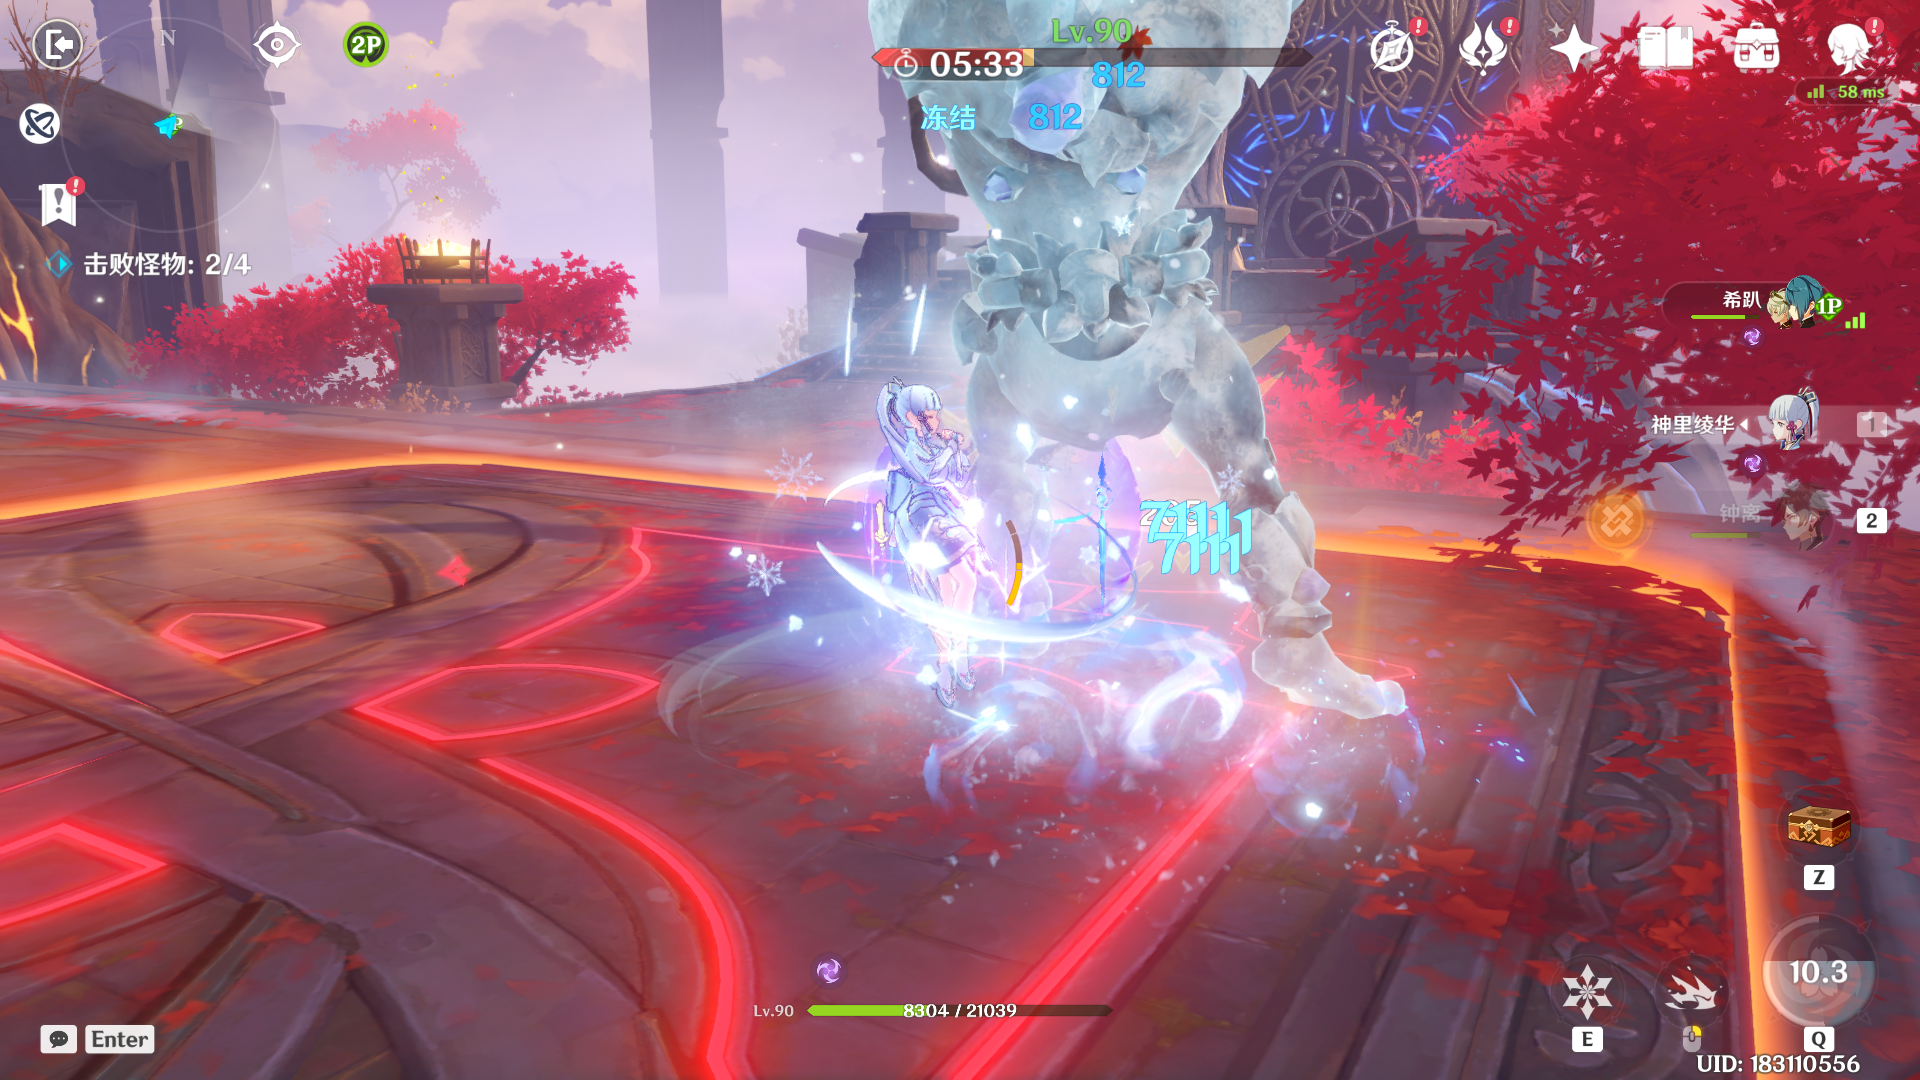character: (819, 342, 1044, 707)
